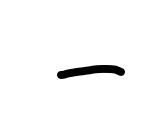minus: (56, 66, 125, 79)
